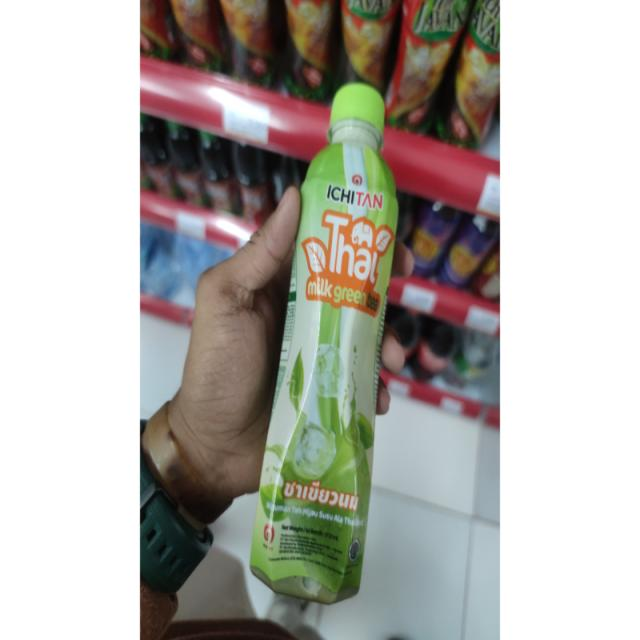botol: (251, 46, 415, 611)
